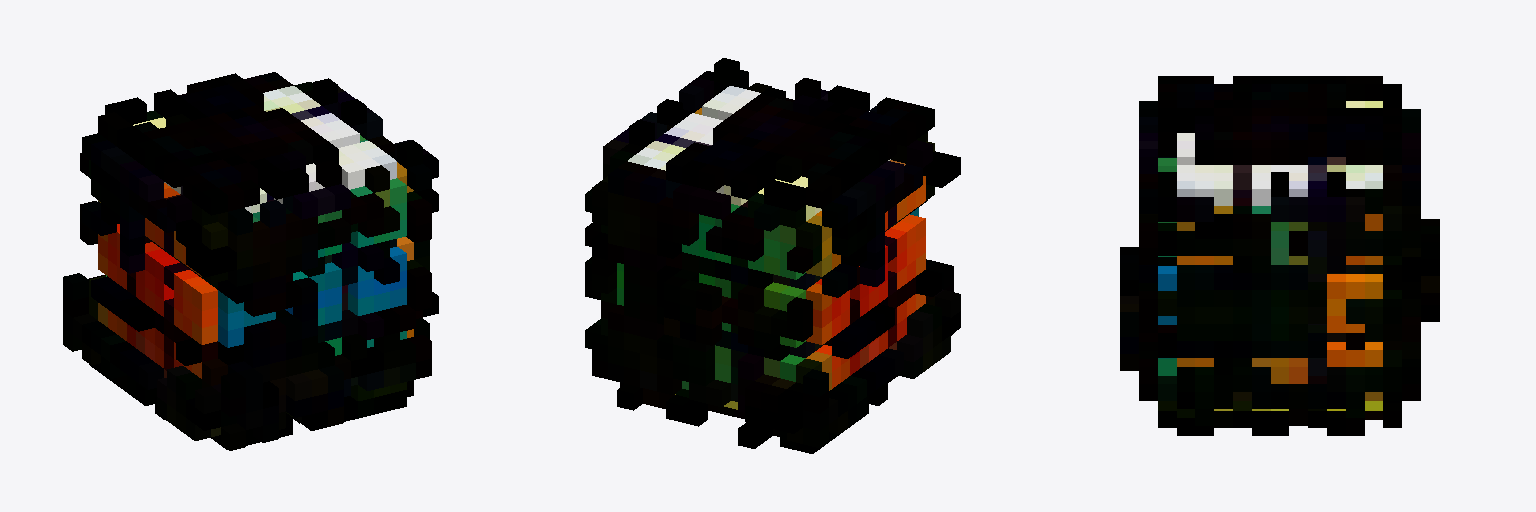
The model's file is iter_80.obj.
3 views of the same model, side by side, from view 1: azimuth 30°, elevation 25°; view 2: azimuth 150°, elevation 25°; view 3: azimuth 270°, elevation 25° (orthographic).
Parts seen in each view (by area): view 1: iter_80; view 2: iter_80; view 3: iter_80.
Part boxes in pixels (left/top/right/bottom): iter_80: left=63, top=72, right=438, bottom=450; iter_80: left=585, top=58, right=960, bottom=453; iter_80: left=1120, top=76, right=1439, bottom=435.
Bounding box in the file's own units: 1.5 × 1.5 × 1.7.